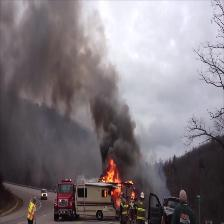fire: (100, 155, 124, 201)
smoke: (0, 0, 86, 78), (93, 100, 127, 150)
